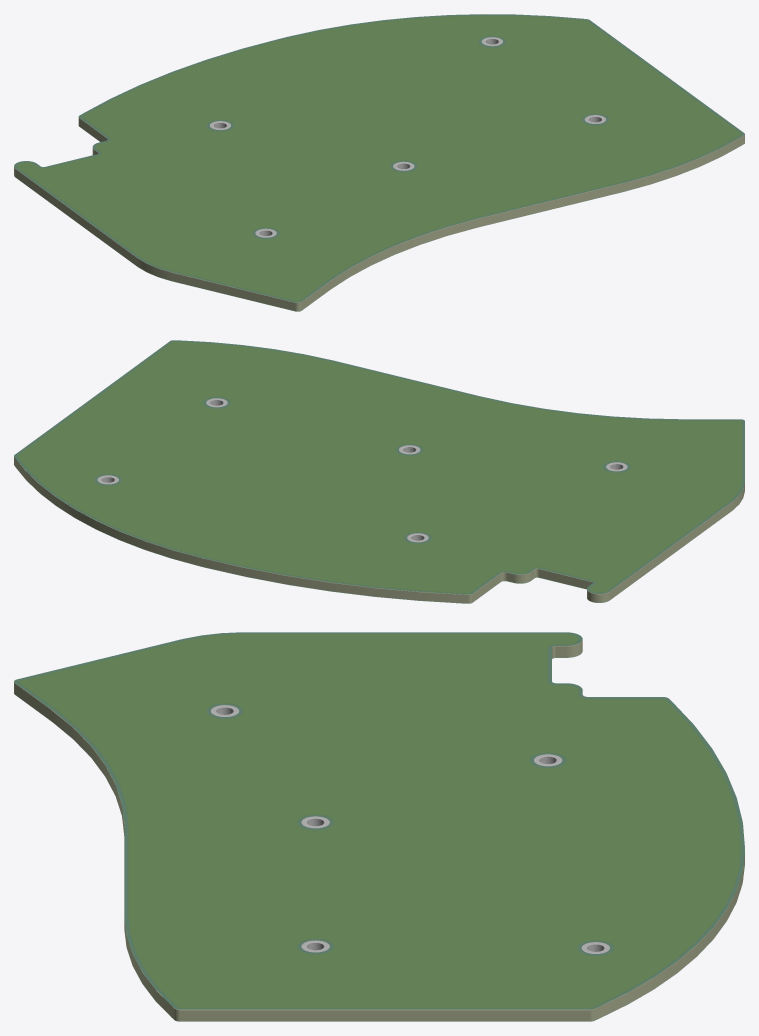
File: board.glb
3 renders of one model, top to bottom at view 1: azimuth 30°, elevation 25°; view 2: azimuth 150°, elevation 25°; view 3: azimuth 270°, elevation 25°, orthographic. The views are drawn at different scales.
Parts seen in each view (by area): view 1: board_soldermask (×2), board_copper, board_PCB, board_pad; view 2: board_soldermask (×2), board_copper, board_PCB, board_pad; view 3: board_soldermask (×2), board_copper, board_PCB, board_pad.
Part boxes in pixels (box(x1,y1,x2,y2)): board_soldermask (×2): box(14, 14, 744, 311); board_copper: box(17, 16, 740, 300); board_PCB: box(14, 15, 744, 311); board_pad: box(209, 37, 605, 237); board_soldermask (×2): box(14, 340, 744, 603); board_copper: box(18, 342, 741, 592); board_PCB: box(14, 341, 744, 603); board_pad: box(97, 398, 627, 542); board_soldermask (×2): box(14, 632, 744, 1021); board_copper: box(19, 634, 740, 1007); board_PCB: box(14, 633, 744, 1021); board_pad: box(211, 705, 609, 953).
Bounding box in the file's own units: 0.1095 × 0.00161 × 0.0896.
